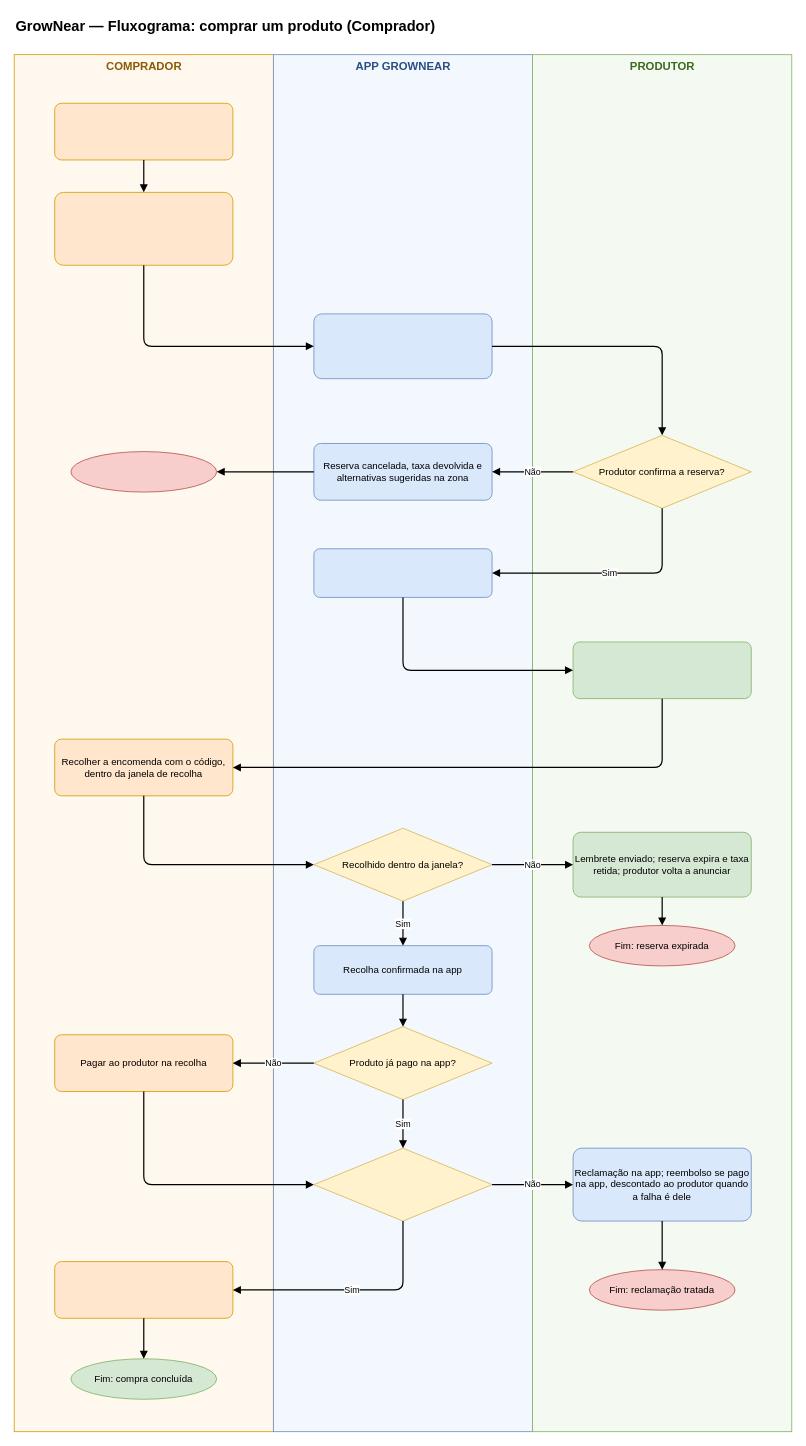
The diagram is 806 pixels wide and 1446 high, and some of its shapes have lost their labels. Here are the shapes that lost their labels. From the top down, the centre of each, then its label:
At pixel 143 131: "Ver anúncios de produto pretendido".
At pixel 143 228: "Reservar: quantidade, forma de recolha Escolher forma de pagamento".
At pixel 402 346: "Cobrar a taxa (0,50 € + 5 %) na app e notificar o produtor".
At pixel 143 471: "Fim: reserva cancelada".
At pixel 402 572: "Gerar código de recolha e notificar o comprador".
At pixel 661 670: "Preparar a encomenda e deixá-la em casa ou no ponto de recolha".
At pixel 402 1184: "Produto conforme (qualidade e quantidade)?".
At pixel 143 1289: "Avaliar o produtor (1–5); avaliação visível na app".
